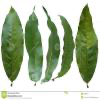Peach leaf: (1, 3, 24, 87), (76, 3, 98, 90), (25, 3, 43, 87), (42, 4, 59, 87), (56, 12, 75, 84)
